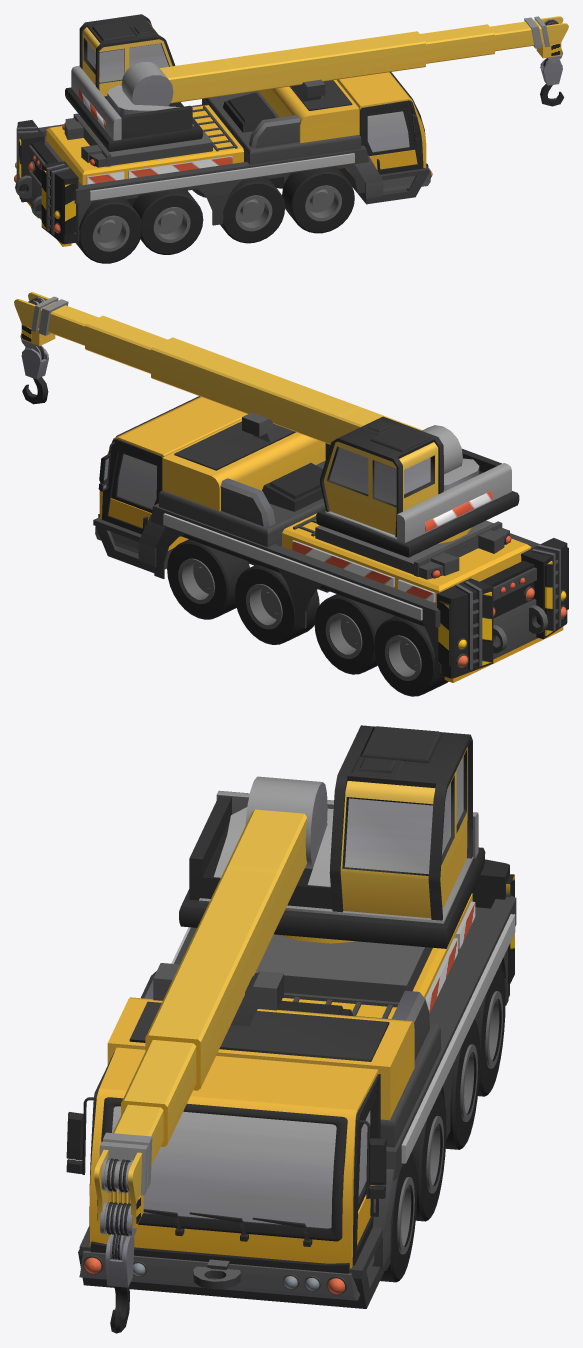
File: Crane.fbx
The picture shows the model from 3 angles, top to bottom: view 1: azimuth 30°, elevation 25°; view 2: azimuth 150°, elevation 25°; view 3: azimuth 270°, elevation 25°; orthographic projection. The views are drawn at different scales.
Visible parts, largest first — view 1: Body, Cylinder_001, Cylinder_001__2_, Cylinder_001__3_, Cylinder_001__1_; view 2: Body, Cylinder_002, Cylinder_002__1_, Cylinder_002__2_, Cylinder_002__3_; view 3: Body, Cylinder_002__1_, Cylinder_002__2_, Cylinder_002, Cylinder_002__3_.
Boxes of the visible parts, x1=… form: Body: x1=14, y1=14, x2=568, y2=246; Cylinder_001: x1=282, y1=167, x2=354, y2=233; Cylinder_001__2_: x1=132, y1=188, x2=203, y2=254; Cylinder_001__3_: x1=76, y1=197, x2=141, y2=263; Cylinder_001__1_: x1=220, y1=176, x2=284, y2=243; Body: x1=14, y1=292, x2=568, y2=682; Cylinder_002: x1=167, y1=539, x2=249, y2=619; Cylinder_002__1_: x1=234, y1=564, x2=319, y2=644; Cylinder_002__2_: x1=314, y1=594, x2=394, y2=674; Cylinder_002__3_: x1=374, y1=616, x2=448, y2=696; Body: x1=66, y1=725, x2=516, y2=1333; Cylinder_002__1_: x1=411, y1=1091, x2=446, y2=1221; Cylinder_002__2_: x1=445, y1=1019, x2=480, y2=1149; Cylinder_002: x1=380, y1=1152, x2=417, y2=1282; Cylinder_002__3_: x1=474, y1=966, x2=505, y2=1096.
Bounding box in the file's own units: 754 × 279 × 305.
